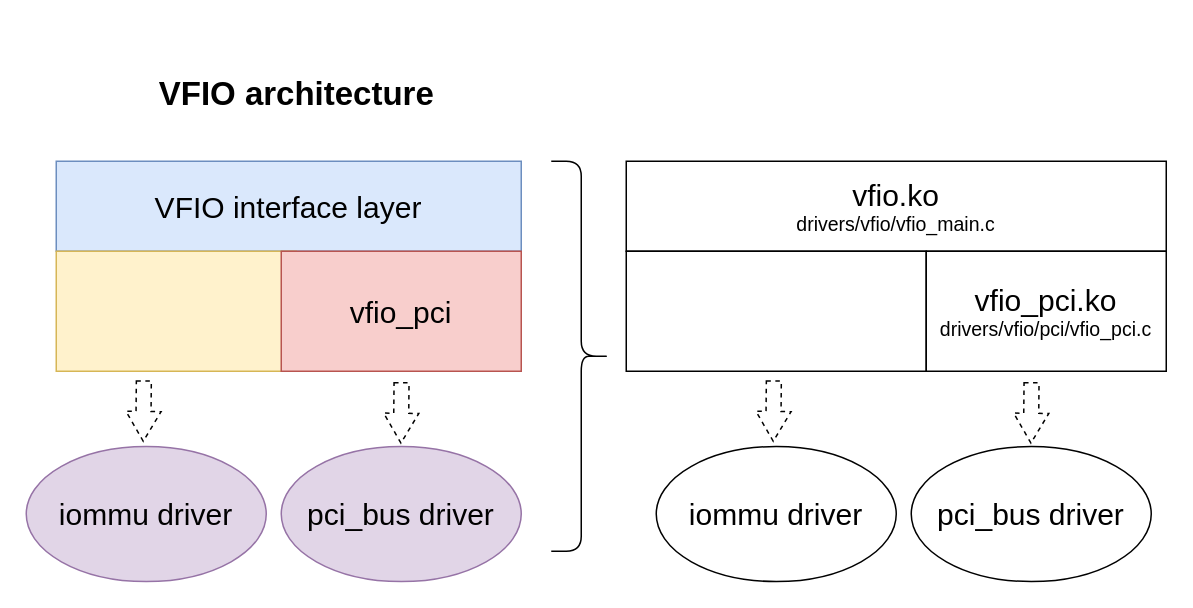
Image size: 1193x608. Some labels were removed from this diagram. The centre of each missing label's shape, as x and y in pixels:
vfio_iommu: (x=175, y=310)
vfio_iommu_type1.ko drivers/vfio/vfio_iommu_type1 .c: (x=775, y=310)
